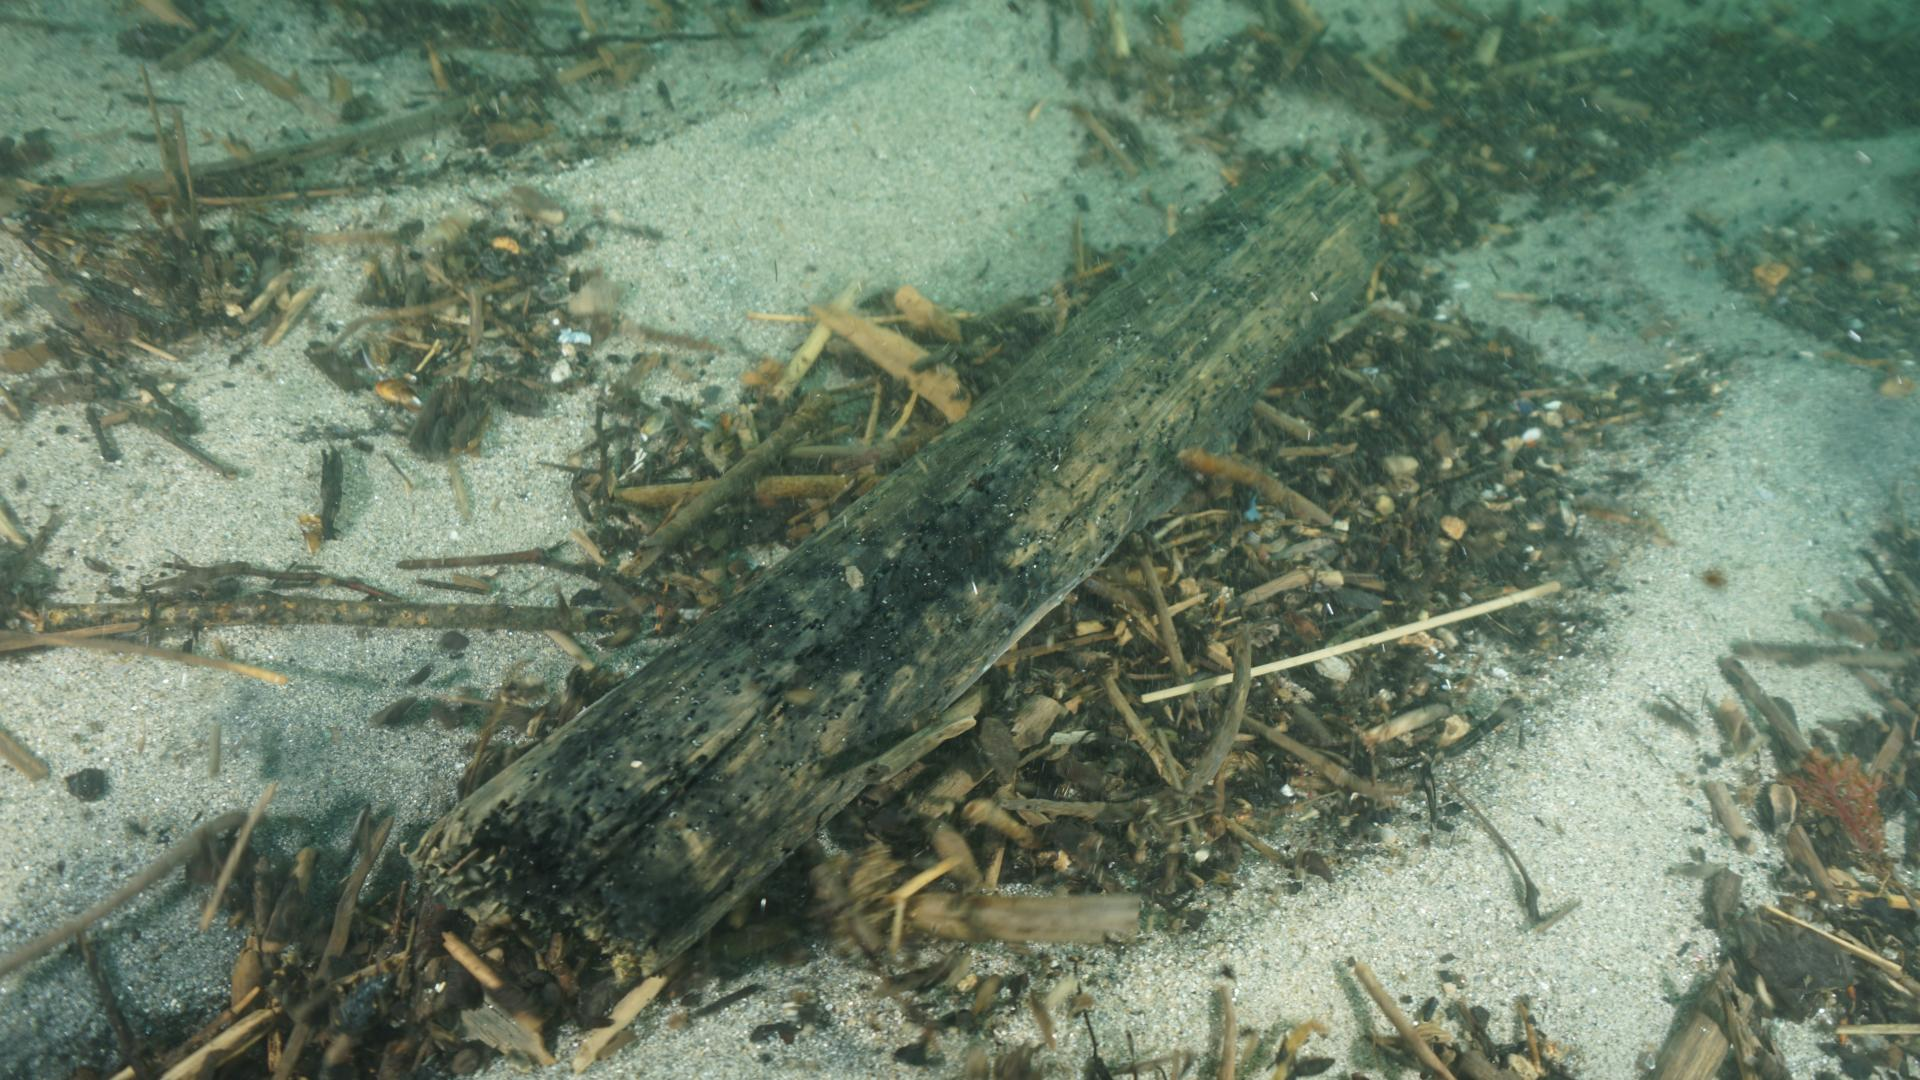wood: (400, 166, 1381, 982)
